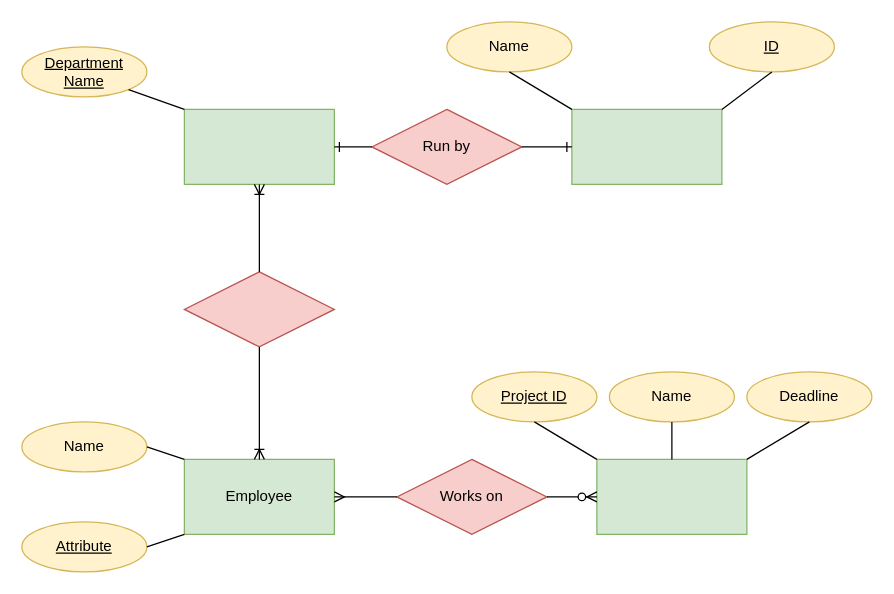
The diagram is 894 pixels wide and 594 high, and some of its shapes have lost their labels. The centre of each missing label's shape, as x and y in pixels:
"Department" belongs at (258,146).
"employs" belongs at (258,309).
"Project" belongs at (671,496).
"Supervisor" belongs at (646,146).
